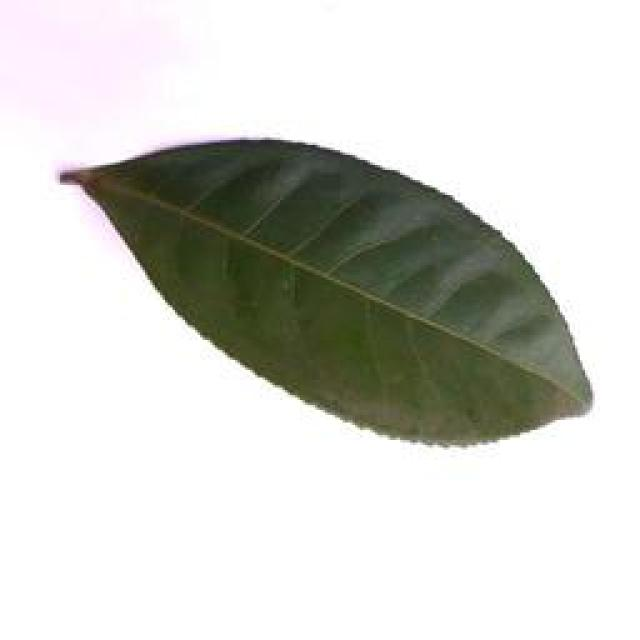Healthy: (56, 143, 601, 435)
